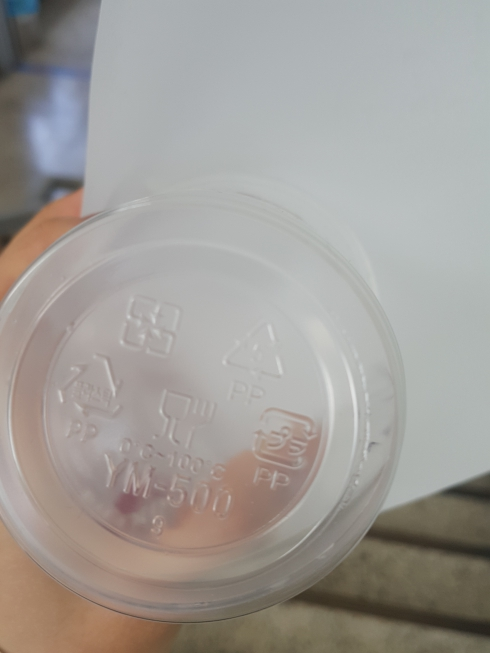recycle: (222, 308, 286, 403)
